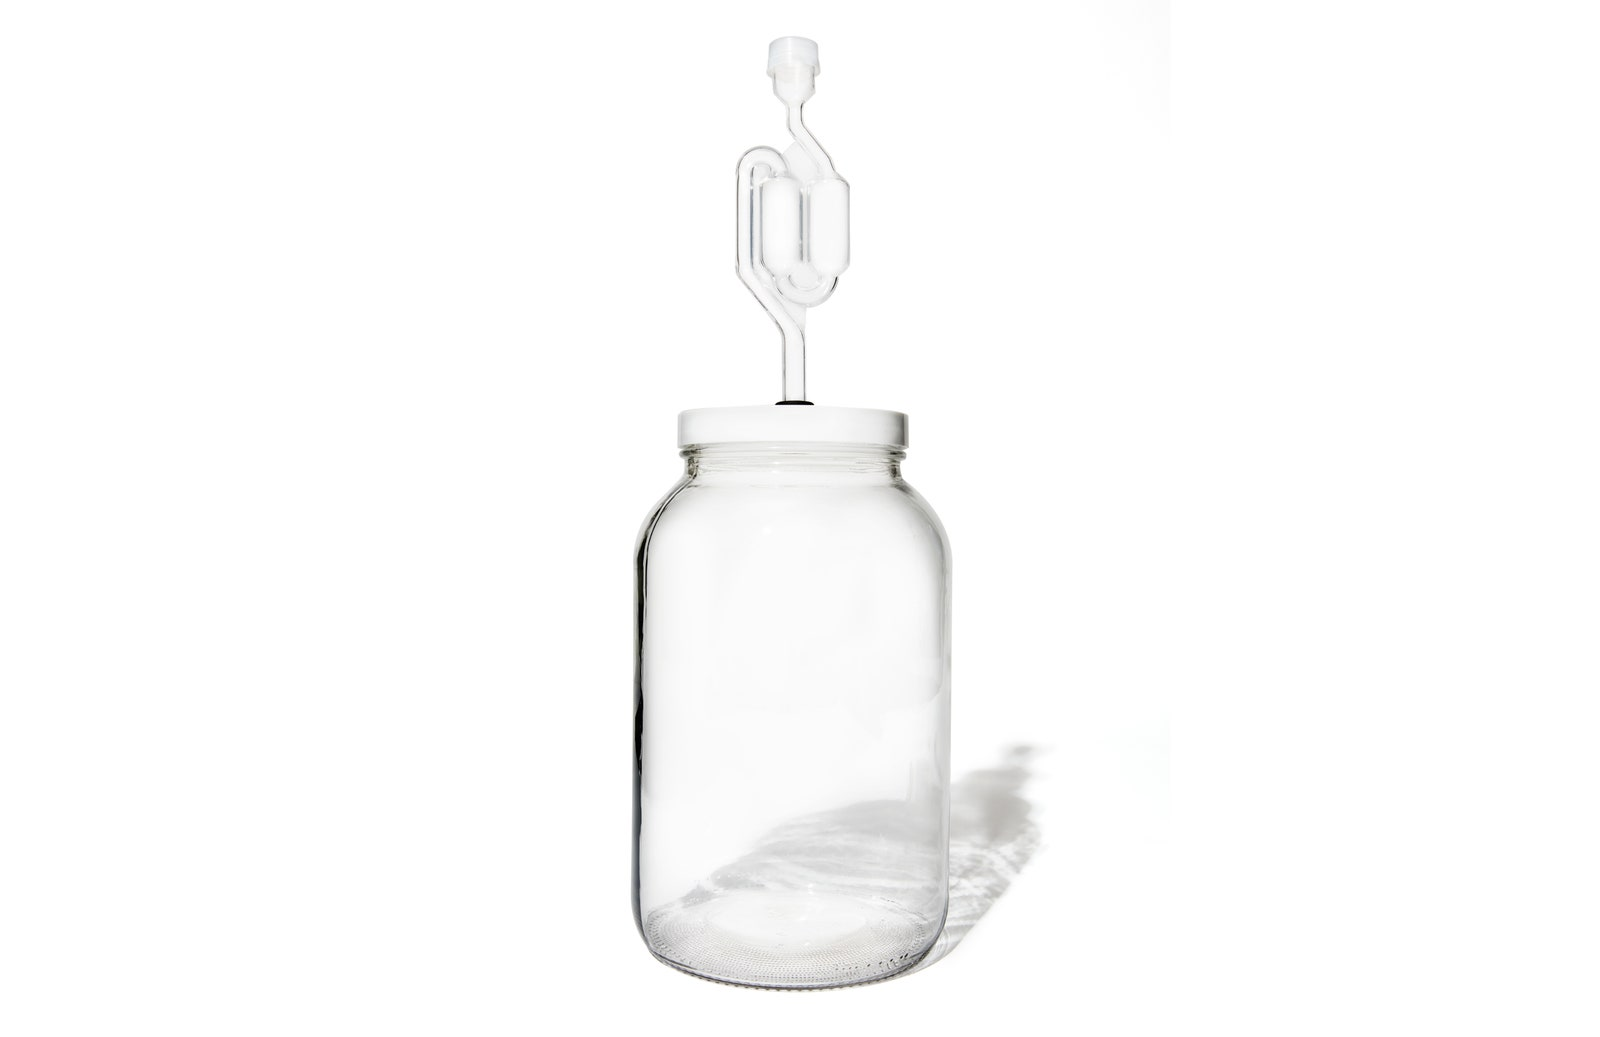glass_bottle: (622, 399, 961, 993)
